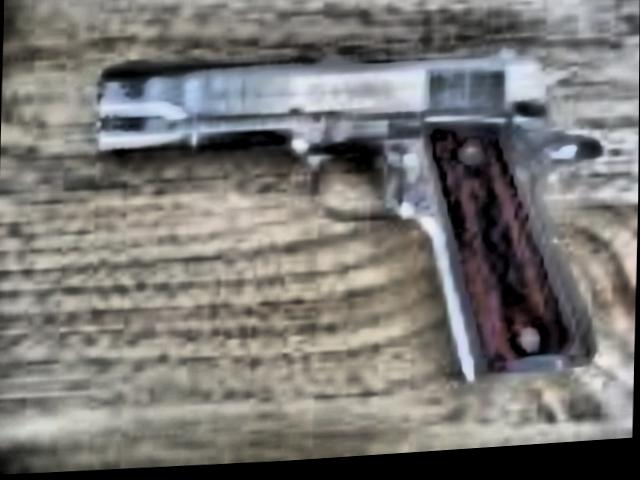pistol: (83, 36, 607, 401)
